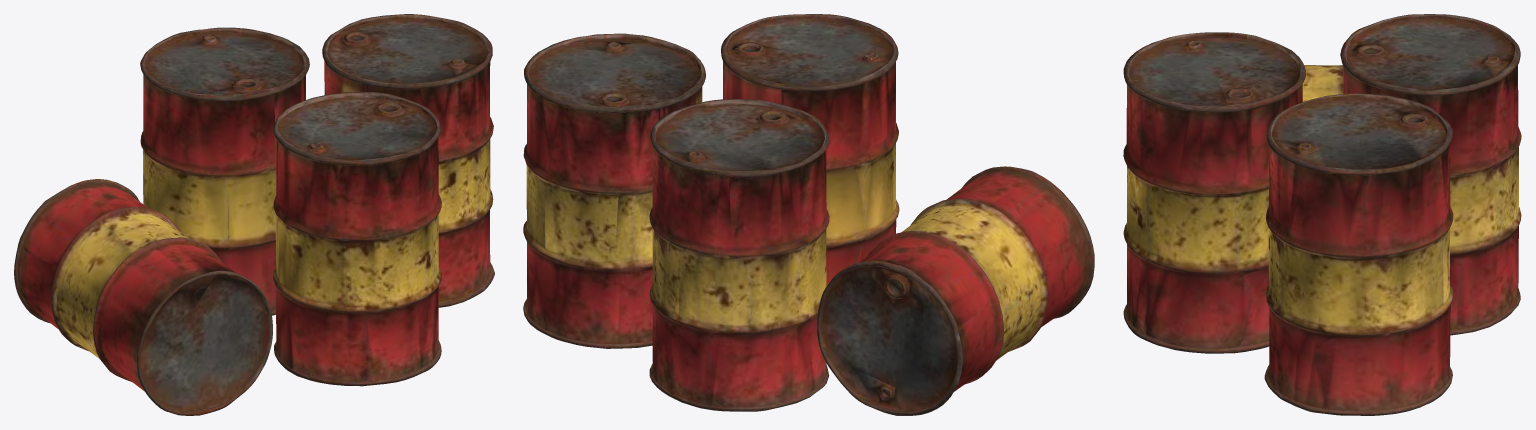
Rendered from barrels.glb.
The picture shows the model from 3 angles, left to right: view 1: azimuth 30°, elevation 25°; view 2: azimuth 150°, elevation 25°; view 3: azimuth 270°, elevation 25°; orthographic projection. The views are drawn at different scales.
Size of the model in its own units: 1.9 by 0.9541 by 1.38.
Materials: 1 (1 with a texture image).
